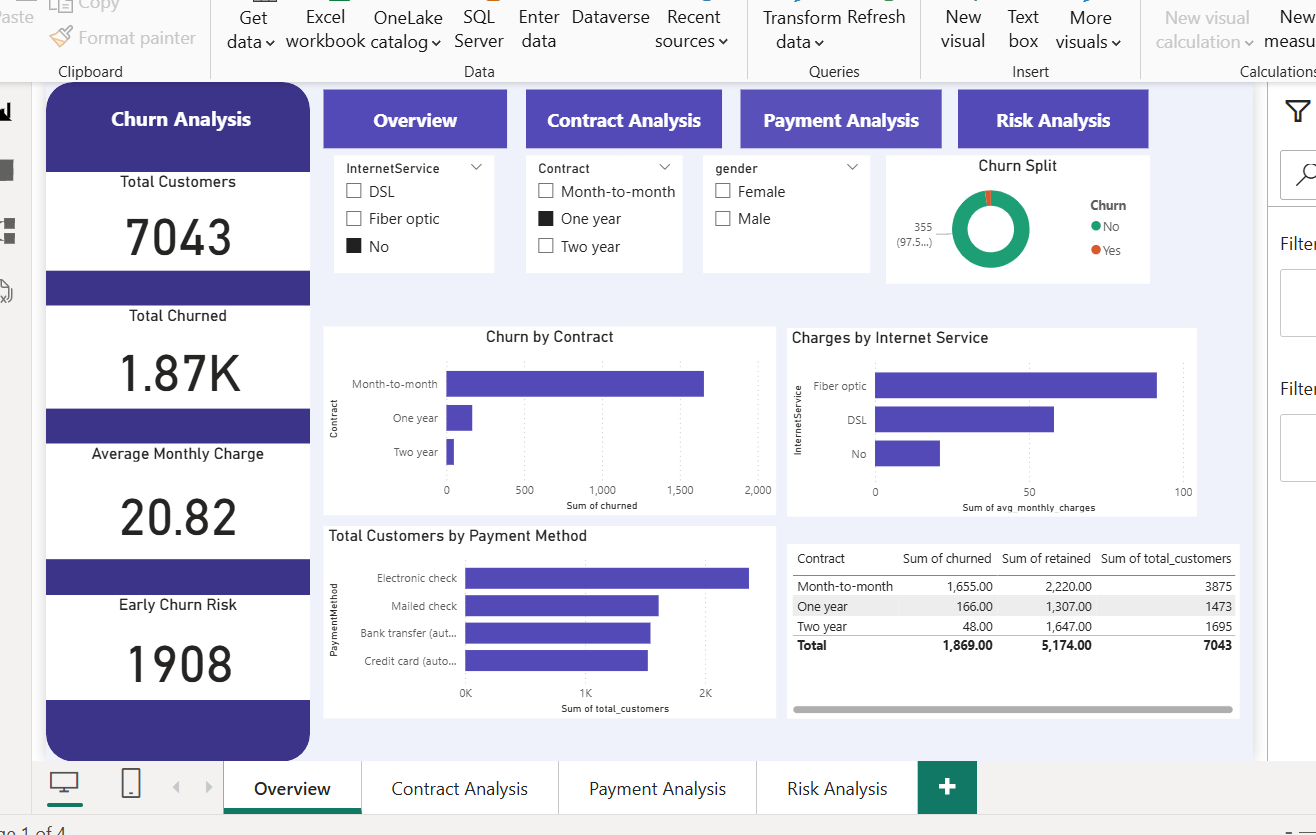

What the dashboard file says about the page in this screenshot:
{"tool":"powerbi","page":{"name":"Overview","canvas":[1280,720],"ordinal":0},"visuals":[{"type":"shape","box":[0,0,279.9,720.5],"z":0},{"type":"card","title":"Total Customers","fields":{"Values":["CountNonNull(Customers.customerID)"]},"box":[0,95.4,279.9,105],"z":1000},{"type":"card","title":"Total Churned","fields":{"Values":["Sum(qry_churn_by_contract.churned)"]},"box":[0,236.2,279.7,109.6],"z":2000},{"type":"card","title":"Average Monthly Charge","fields":{"Values":["Avg(Services.MonthlyCharges)"]},"box":[0,383.6,279.7,122.8],"z":3000},{"type":"card","title":"Early Churn Risk","fields":{"Values":["CountNonNull(Q_Early_Churn_Risk.CustomerID)"]},"box":[0,544.3,279.7,111.5],"z":4000},{"type":"textbox","box":[30.2,17.5,225.9,42.9],"z":5000},{"type":"donutChart","title":"Churn Split","fields":{"Category":["Services.Churn"],"Y":["CountNonNull(Services.customerID)"]},"box":[890.1,77.5,279.7,136.1],"z":6000},{"type":"clusteredBarChart","title":"Churn by Contract","fields":{"Category":["qry_churn_by_contract.Contract"],"Y":["Sum(qry_churn_by_contract.churned)"]},"box":[294.8,258.9,480,200.3],"z":7000},{"type":"barChart","title":"Charges by Internet Service","fields":{"Category":["Q_charges_by_internet.InternetService"],"Y":["Sum(Q_charges_by_internet.avg_monthly_charges)"]},"box":[786.1,260.8,434.6,200.3],"z":8000},{"type":"clusteredBarChart","title":"Total Customers by Payment Method","fields":{"Category":["qry_customers_by_payment_method.PaymentMethod"],"Y":["Sum(qry_customers_by_payment_method.total_customers)"]},"box":[294.8,470.6,480,204.1],"z":9000},{"type":"slicer","fields":{"Values":["Services.Contract"]},"box":[508.4,77.5,166.3,124.7],"z":10000},{"type":"slicer","fields":{"Values":["Services.InternetService"]},"box":[306.1,77.5,170.1,124.7],"z":11000},{"type":"slicer","fields":{"Values":["Customers.gender"]},"box":[697.3,77.5,177.6,124.7],"z":12000},{"type":"actionButton","box":[294.8,7.6,194.6,62.4],"z":13000},{"type":"actionButton","box":[508.4,7.6,207.9,62.4],"z":14000},{"type":"actionButton","box":[737,7.6,213.5,62.4],"z":15000},{"type":"actionButton","box":[967.6,7.6,202.2,62.4],"z":16000},{"type":"tableEx","fields":{"Values":["qry_churn_by_contract (2).Contract","Sum(qry_churn_by_contract (2).churned)","Sum(qry_churn_by_contract (2).retained)","Sum(qry_churn_by_contract (2).total_customers)"]},"box":[786.1,489.5,480,185.2],"z":17000}]}

Visuals, with their boxes on the page's 1280x720 design canvas (x1, y1, x2, y2). These are canvas units, not pixel positions in the 1316x835 screenshot, which may show the page scaled, cropped or inside an application window:
shape: select_region(0, 0, 280, 720)
"Total Customers" card: select_region(0, 95, 280, 200)
"Total Churned" card: select_region(0, 236, 280, 346)
"Average Monthly Charge" card: select_region(0, 384, 280, 506)
"Early Churn Risk" card: select_region(0, 544, 280, 656)
textbox: select_region(30, 18, 256, 60)
"Churn Split" donutChart: select_region(890, 78, 1170, 214)
"Churn by Contract" clusteredBarChart: select_region(295, 259, 775, 459)
"Charges by Internet Service" barChart: select_region(786, 261, 1221, 461)
"Total Customers by Payment Method" clusteredBarChart: select_region(295, 471, 775, 675)
slicer - Services.Contract: select_region(508, 78, 675, 202)
slicer - Services.InternetService: select_region(306, 78, 476, 202)
slicer - Customers.gender: select_region(697, 78, 875, 202)
actionButton: select_region(295, 8, 489, 70)
actionButton: select_region(508, 8, 716, 70)
actionButton: select_region(737, 8, 950, 70)
actionButton: select_region(968, 8, 1170, 70)
tableEx - qry_churn_by_contract (2).Contract x Sum(qry_churn_by_contract (2).churned): select_region(786, 490, 1266, 675)
